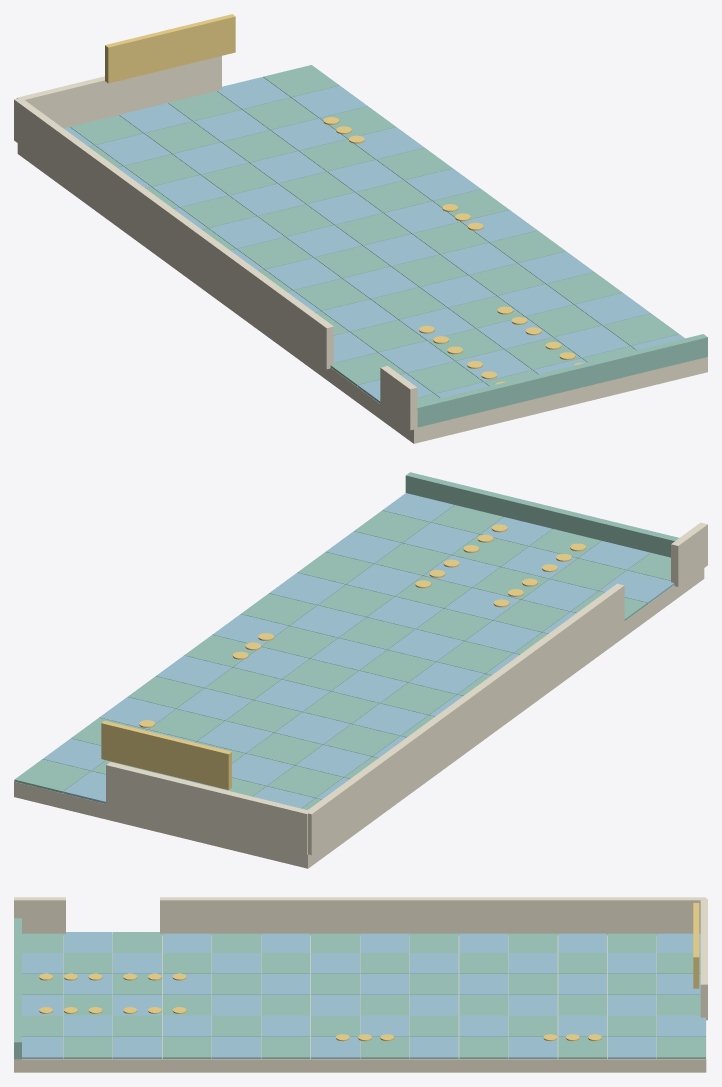
The model's file is playroom.glb.
The picture shows the model from 3 angles, top to bottom: view 1: azimuth 30°, elevation 25°; view 2: azimuth 150°, elevation 25°; view 3: azimuth 270°, elevation 25°; orthographic projection. The views are drawn at different scales.
Parts seen in each view (by area): view 1: garden front border, room tile.001, back wall, play sign; view 2: garden front border, room tile.001, back wall, play sign; view 3: garden front border, room tile.001, back wall, play sign.
Part boxes in pixels (x1,y1,x2,y2): garden front border: [70, 65, 707, 427]; room tile.001: [64, 77, 684, 403]; back wall: [14, 56, 707, 443]; play sign: [105, 14, 584, 384]; garden front border: [14, 472, 678, 809]; room tile.001: [43, 493, 674, 808]; back wall: [14, 522, 707, 868]; play sign: [101, 524, 585, 789]; garden front border: [14, 918, 705, 1059]; room tile.001: [22, 932, 705, 1058]; back wall: [14, 897, 707, 1072]; play sign: [39, 903, 699, 1041].
Bounding box in the file's own units: 6.07 × 1.78 × 14.04.
